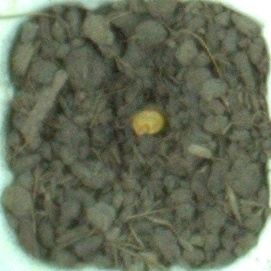chilli seed: (130, 109, 166, 136)
